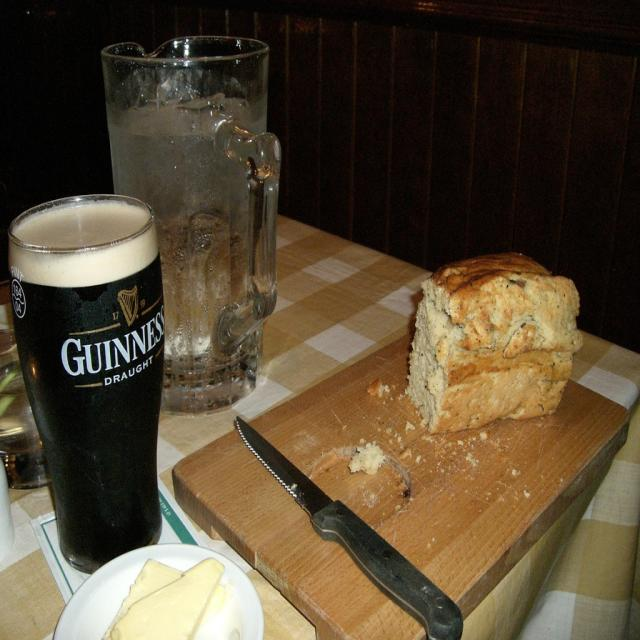guiness: (60, 284, 166, 380)
